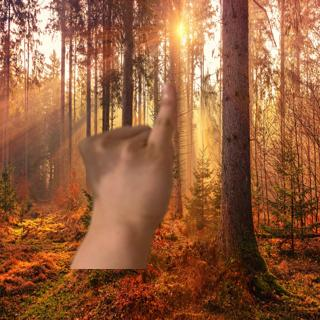FINE: (74, 79, 185, 234)
